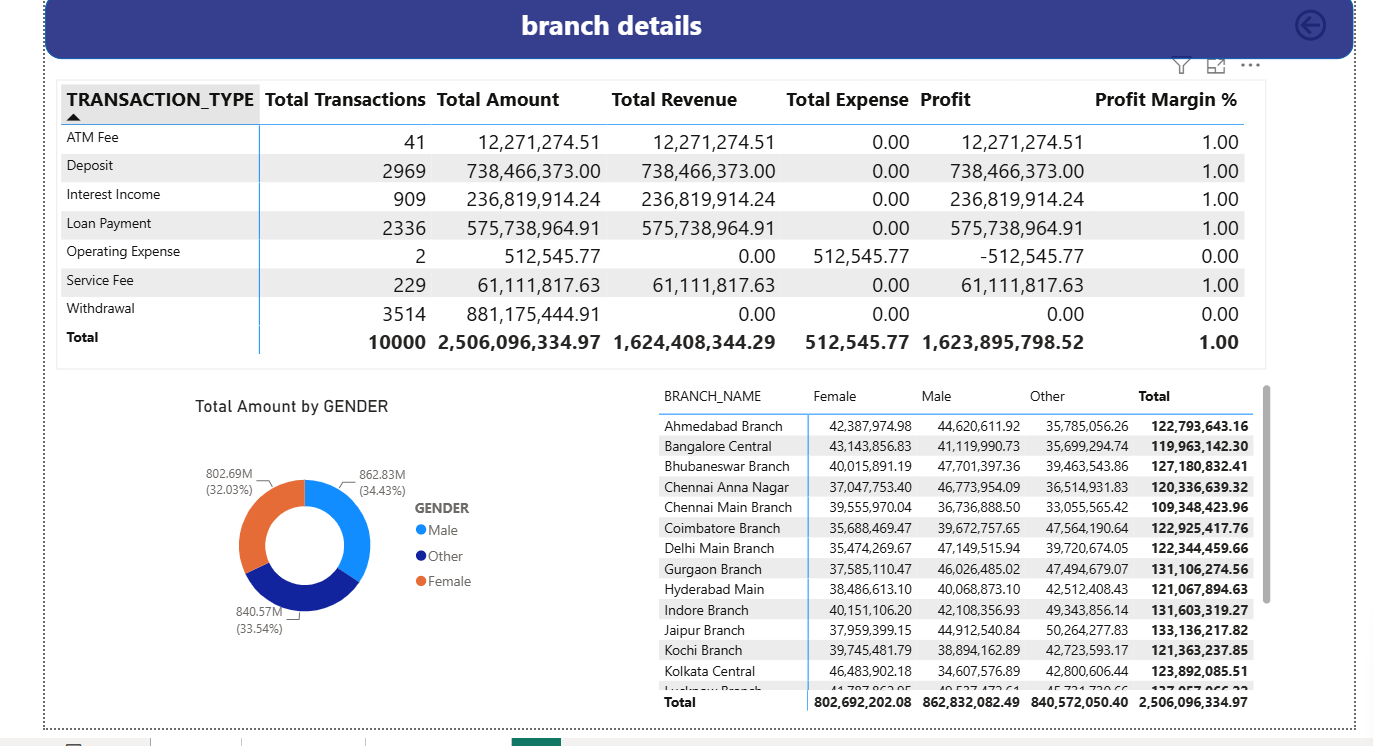

The dashboard page shown, as its layout file describes it:
{"tool":"powerbi","page":{"name":"branch details","canvas":[1280,720],"ordinal":2},"visuals":[{"type":"actionButton","box":[1217.9,12.2,44,40.4],"z":0},{"type":"pivotTable","fields":{"Rows":["DIM_TRANSACTION.TRANSACTION_TYPE"],"Values":["Table.Total Transactions","Table.Total Amount","Table.Total Revenue","Table.Total Expense","Table.Profit","Table.Profit Margin %"]},"box":[11,85.1,1184.2,284],"z":1000},{"type":"shape","box":[0,1.4,1280.3,64.5],"z":2000},{"type":"textbox","box":[461.1,8.2,233.3,49.4],"z":3000},{"type":"donutChart","fields":{"Category":["DIM_CUSTOMER.GENDER"],"Y":["Table.Total Amount"]},"box":[141.3,395.2,297.8,274.4],"z":4000},{"type":"pivotTable","fields":{"Rows":["DIM_BRANCH.BRANCH_NAME"],"Columns":["DIM_CUSTOMER.GENDER"],"Values":["Table.Total Amount"]},"box":[595.5,378.7,609.3,329.3],"z":5000}]}

Visuals, with their boxes on the page's 1280x720 design canvas (x1, y1, x2, y2). These are canvas units, not pixel positions in the 1373x746 screenshot, which may show the page scaled, cropped or inside an application window:
actionButton: left=1218, top=12, right=1262, bottom=53
pivotTable - DIM_TRANSACTION.TRANSACTION_TYPE x Table.Total Transactions: left=11, top=85, right=1195, bottom=369
shape: left=0, top=1, right=1280, bottom=66
textbox: left=461, top=8, right=694, bottom=58
donutChart - DIM_CUSTOMER.GENDER x Table.Total Amount: left=141, top=395, right=439, bottom=670
pivotTable - DIM_BRANCH.BRANCH_NAME x DIM_CUSTOMER.GENDER: left=596, top=379, right=1205, bottom=708
